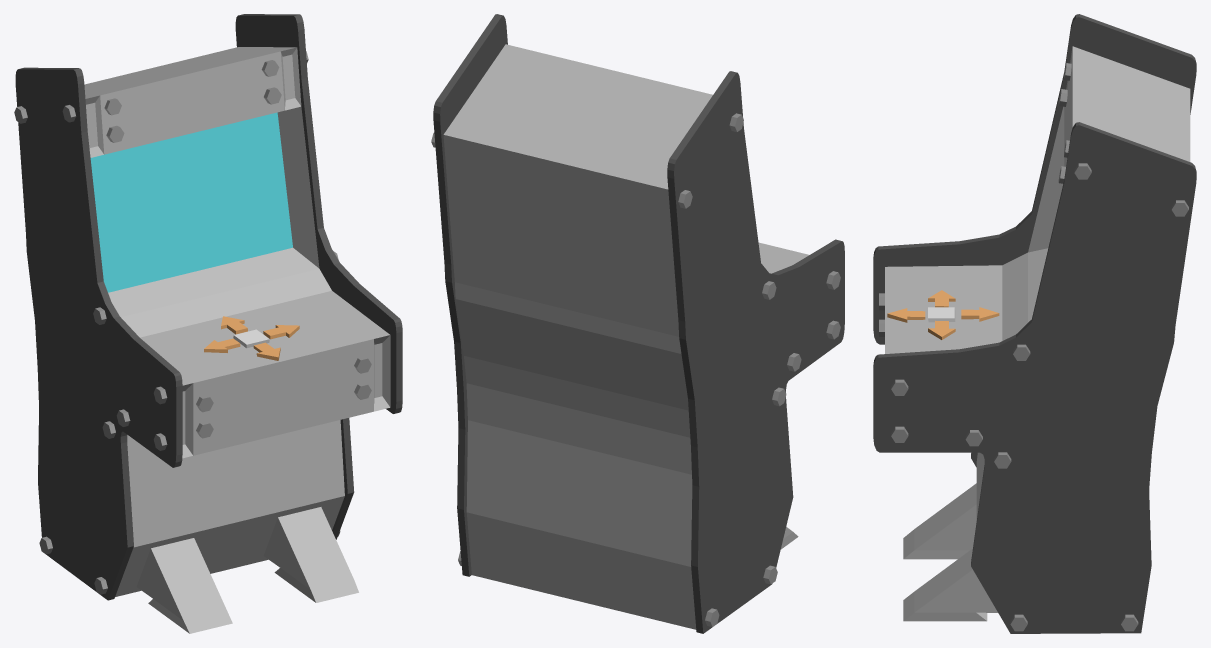
Rendered from GameCabinetOnly.fbx.
3 views of the same model, side by side, from view 1: azimuth 30°, elevation 25°; view 2: azimuth 150°, elevation 25°; view 3: azimuth 270°, elevation 25° (orthographic). The views are drawn at different scales.
Visible parts, largest first — view 1: BaseModel_PM, SidePanelLeft, SidePanelRight, BoltSidePanelL, PMArrowButtons; view 2: BaseModel_PM, SidePanelLeft, SidePanelRight, BoltSidePanelL; view 3: SidePanelRight, BaseModel_PM, SidePanelLeft, BoltSidePanelR, PMArrowButtons.
Boxes of the visible parts, bbox=[...] form: BaseModel_PM: bbox=[84, 47, 390, 633]; SidePanelLeft: bbox=[15, 67, 182, 600]; SidePanelRight: bbox=[235, 14, 402, 539]; BoltSidePanelL: bbox=[14, 105, 167, 594]; PMArrowButtons: bbox=[204, 316, 299, 360]; BaseModel_PM: bbox=[443, 44, 808, 629]; SidePanelLeft: bbox=[667, 71, 844, 633]; SidePanelRight: bbox=[433, 14, 507, 576]; BoltSidePanelL: bbox=[678, 113, 840, 626]; SidePanelRight: bbox=[873, 122, 1196, 633]; BaseModel_PM: bbox=[885, 46, 1190, 621]; SidePanelLeft: bbox=[873, 14, 1196, 467]; BoltSidePanelR: bbox=[891, 163, 1188, 631]; PMArrowButtons: bbox=[887, 290, 999, 339].
Bounding box in the file's own units: 2.56 × 5.22 × 3.
